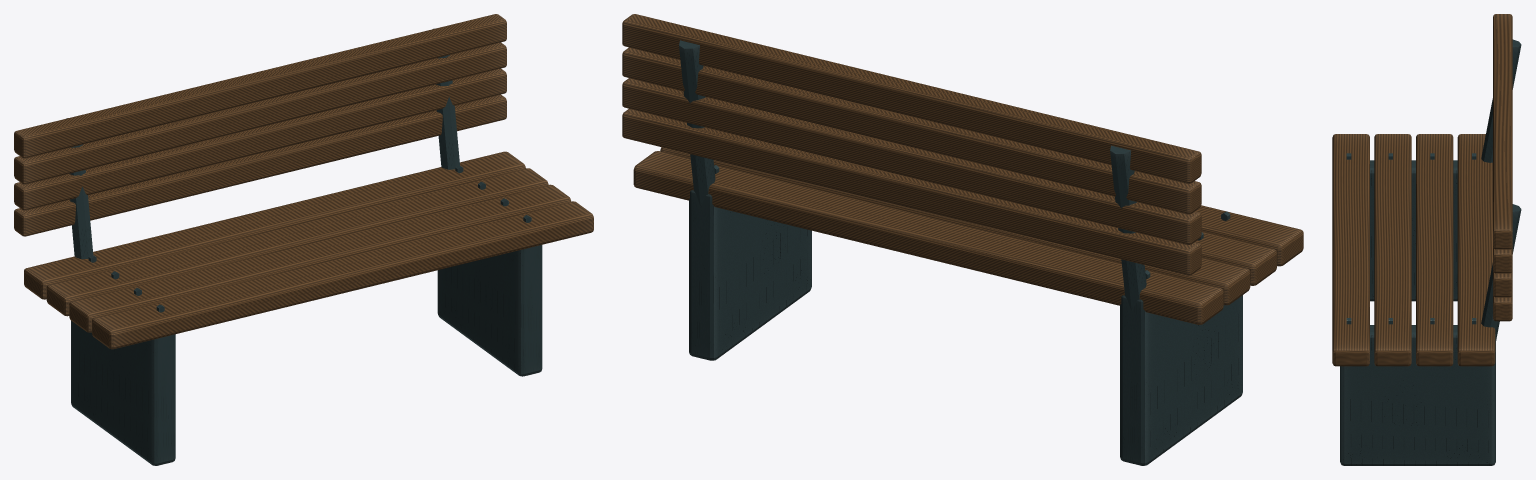
Rendered from street_bench.fbx.
3 views of the same model, side by side, from view 1: azimuth 30°, elevation 25°; view 2: azimuth 150°, elevation 25°; view 3: azimuth 270°, elevation 25° (orthographic). The views are drawn at different scales.
Parts seen in each view (by area): view 1: street_bench__seat_slat, street_bench__back_slat.003, street_bench__back_slat.002, street_bench__back_slat.001, street_bench__back_slat, street_bench__seat_slat.002, street_bench__seat_slat.001, street_bench__seat_slat.003, street_bench__cast_leg, street_bench__cast_leg.001, street_bench__back_support, street_bench__back_support.001; view 2: street_bench__seat_slat.003, street_bench__back_slat.003, street_bench__back_slat, street_bench__back_slat.001, street_bench__back_slat.002, street_bench__cast_leg, street_bench__cast_leg.001, street_bench__seat_slat.002, street_bench__seat_slat, street_bench__seat_slat.001, street_bench__back_support.001, street_bench__back_support; view 3: street_bench__cast_leg.001, street_bench__seat_slat.002, street_bench__seat_slat.001, street_bench__seat_slat, street_bench__seat_slat.003, street_bench__back_slat.003, street_bench__cast_leg, street_bench__back_support.001, street_bench__back_support, street_bench__back_slat.001, street_bench__back_slat, street_bench__back_slat.002.
Part boxes in pixels (x1=…): street_bench__seat_slat: x1=92, y1=201, x2=593, y2=349; street_bench__back_slat.003: x1=14, y1=14, x2=506, y2=158; street_bench__back_slat.002: x1=14, y1=42, x2=506, y2=184; street_bench__back_slat.001: x1=14, y1=68, x2=506, y2=210; street_bench__back_slat: x1=14, y1=94, x2=506, y2=236; street_bench__seat_slat.002: x1=46, y1=168, x2=548, y2=316; street_bench__seat_slat.001: x1=69, y1=184, x2=571, y2=332; street_bench__seat_slat.003: x1=24, y1=151, x2=525, y2=299; street_bench__cast_leg: x1=71, y1=321, x2=175, y2=465; street_bench__cast_leg.001: x1=437, y1=245, x2=542, y2=376; street_bench__back_support: x1=66, y1=118, x2=93, y2=259; street_bench__back_support.001: x1=433, y1=28, x2=459, y2=169; street_bench__seat_slat.003: x1=633, y1=151, x2=1223, y2=324; street_bench__back_slat.003: x1=622, y1=14, x2=1201, y2=183; street_bench__back_slat: x1=622, y1=108, x2=1201, y2=275; street_bench__back_slat.001: x1=622, y1=78, x2=1201, y2=244; street_bench__back_slat.002: x1=622, y1=47, x2=1201, y2=214; street_bench__cast_leg: x1=1120, y1=295, x2=1242, y2=465; street_bench__cast_leg.001: x1=689, y1=190, x2=811, y2=360; street_bench__seat_slat.002: x1=660, y1=147, x2=1250, y2=305; street_bench__seat_slat: x1=1195, y1=205, x2=1303, y2=266; street_bench__seat_slat.001: x1=1195, y1=231, x2=1276, y2=285; street_bench__back_support.001: x1=679, y1=40, x2=715, y2=206; street_bench__back_support: x1=1110, y1=145, x2=1146, y2=311; street_bench__cast_leg.001: x1=1340, y1=325, x2=1495, y2=465; street_bench__seat_slat.002: x1=1416, y1=134, x2=1453, y2=366; street_bench__seat_slat.001: x1=1374, y1=134, x2=1411, y2=366; street_bench__seat_slat: x1=1332, y1=134, x2=1369, y2=366; street_bench__seat_slat.003: x1=1457, y1=134, x2=1495, y2=366; street_bench__back_slat.003: x1=1493, y1=14, x2=1512, y2=249; street_bench__cast_leg: x1=1370, y1=160, x2=1457, y2=301; street_bench__back_support.001: x1=1481, y1=204, x2=1521, y2=340; street_bench__back_support: x1=1481, y1=39, x2=1521, y2=162; street_bench__back_slat.001: x1=1493, y1=271, x2=1512, y2=297; street_bench__back_slat: x1=1493, y1=295, x2=1512, y2=321; street_bench__back_slat.002: x1=1493, y1=247, x2=1512, y2=273.
Bounding box in the file's own units: 370 × 205 × 136.
2 materials, 2 textured.
